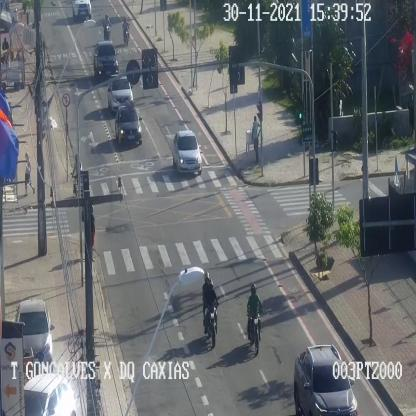car: (294, 346, 359, 416), (18, 299, 55, 363), (25, 374, 73, 416), (173, 129, 199, 177), (115, 105, 144, 145), (108, 75, 134, 109), (95, 41, 119, 76), (74, 0, 97, 21)
motorbike: (122, 17, 130, 47), (103, 12, 111, 40)
person: (202, 274, 219, 350), (247, 283, 263, 354), (24, 152, 34, 196), (252, 114, 259, 166)
